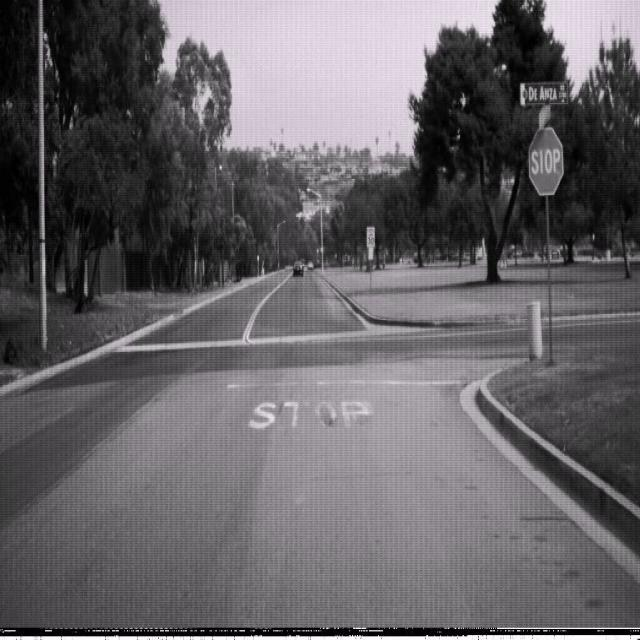stop_sign: (528, 125, 564, 196)
